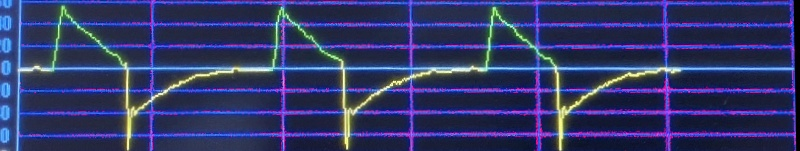normal_flow: (11, 0, 685, 151)
